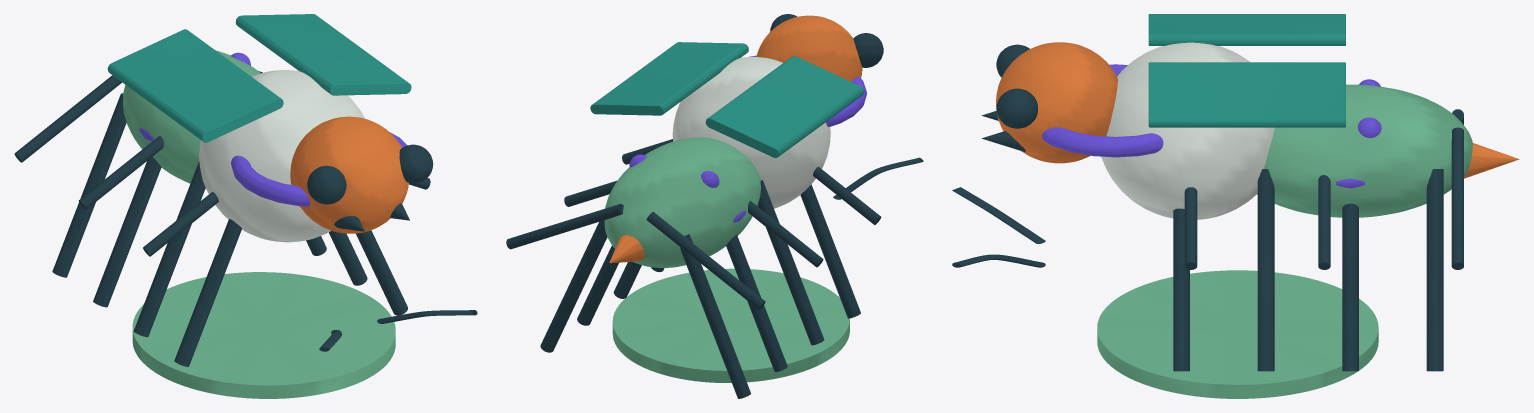
File: 0025_昆虫图鉴_蝉.glb
3 views of the same model, side by side, from view 1: azimuth 30°, elevation 25°; view 2: azimuth 150°, elevation 25°; view 3: azimuth 270°, elevation 25° (orthographic). The views are drawn at different scales.
Visible parts, largest first — view 1: card_0025; view 2: card_0025; view 3: card_0025.
Boxes of the visible parts, bbox=[...] form: card_0025: bbox=[14, 14, 477, 398]; card_0025: bbox=[506, 14, 923, 398]; card_0025: bbox=[952, 14, 1519, 398].
Size of the model in its own units: 1.06 by 1 by 1.75.
